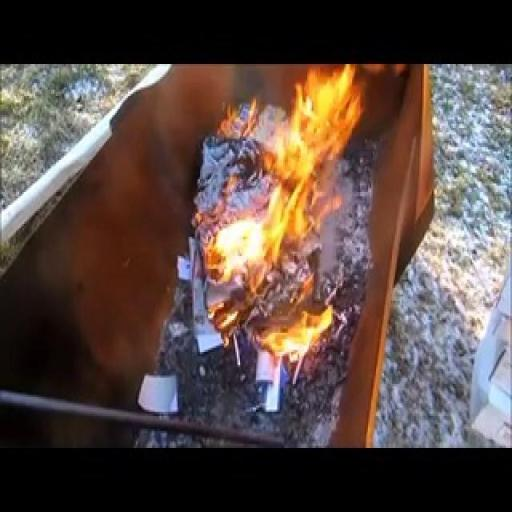smoke: (184, 64, 354, 361)
